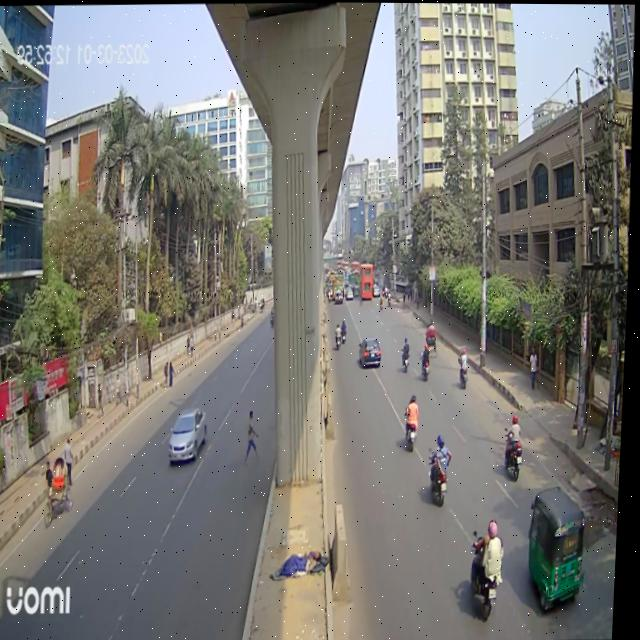cng: (526, 487, 599, 618)
rikshaw: (44, 449, 78, 527), (424, 320, 442, 362)
